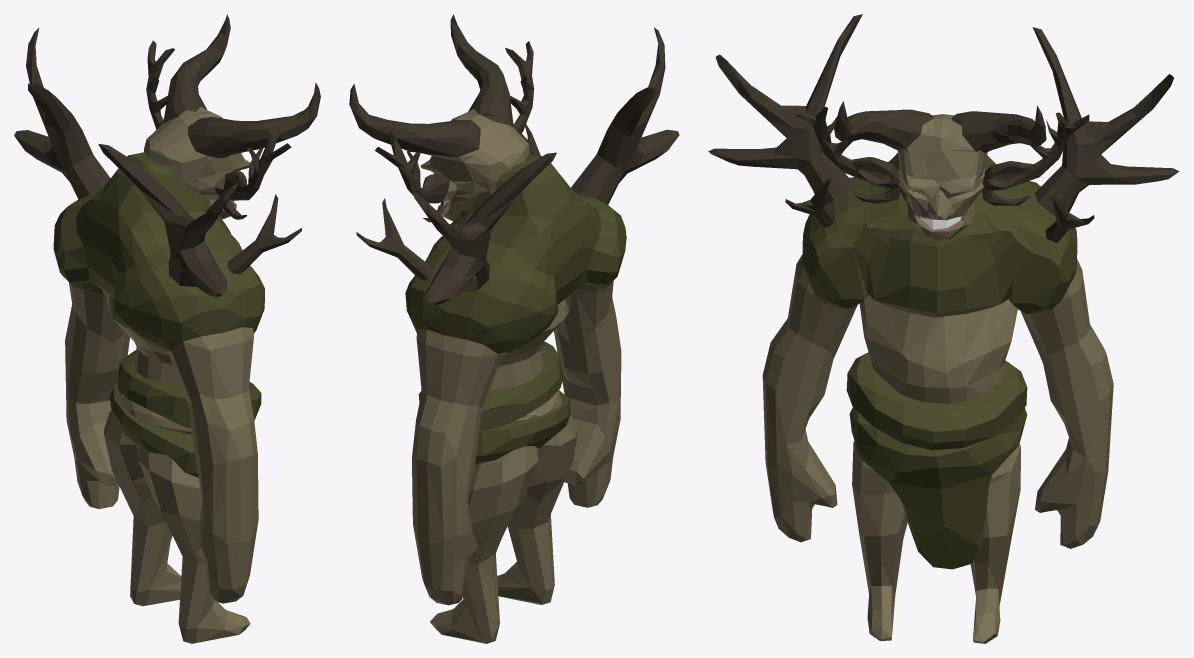
The model's file is LeshiyModel.fbx.
3 renders of one model, left to right at view 1: azimuth 30°, elevation 25°; view 2: azimuth 150°, elevation 25°; view 3: azimuth 270°, elevation 25°, orthographic. The views are drawn at different scales.
Parts seen in each view (by area): view 1: Leshiy; view 2: Leshiy; view 3: Leshiy.
Part boxes in pixels (x1,y1,x2,y2): Leshiy: [14, 14, 320, 643]; Leshiy: [349, 14, 679, 643]; Leshiy: [708, 14, 1179, 643].
Bounding box in the file's own units: 6.88 × 12.55 × 16.73.
